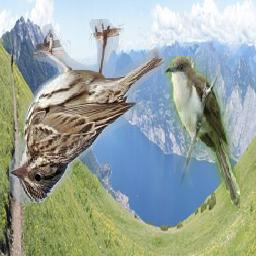Cuckoo: (166, 57, 241, 212)
Sparrow: (10, 19, 165, 203)
